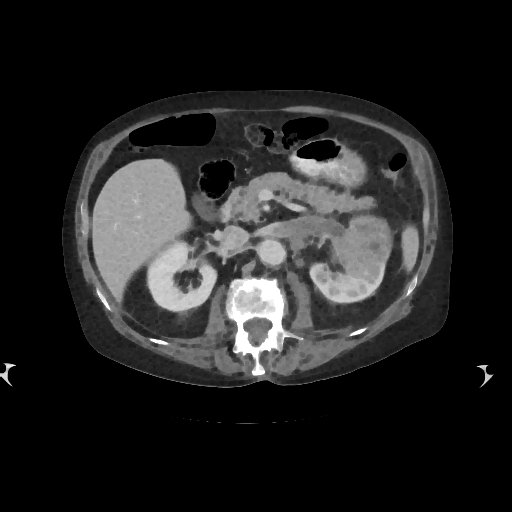Lesion: (334, 212, 397, 285)
